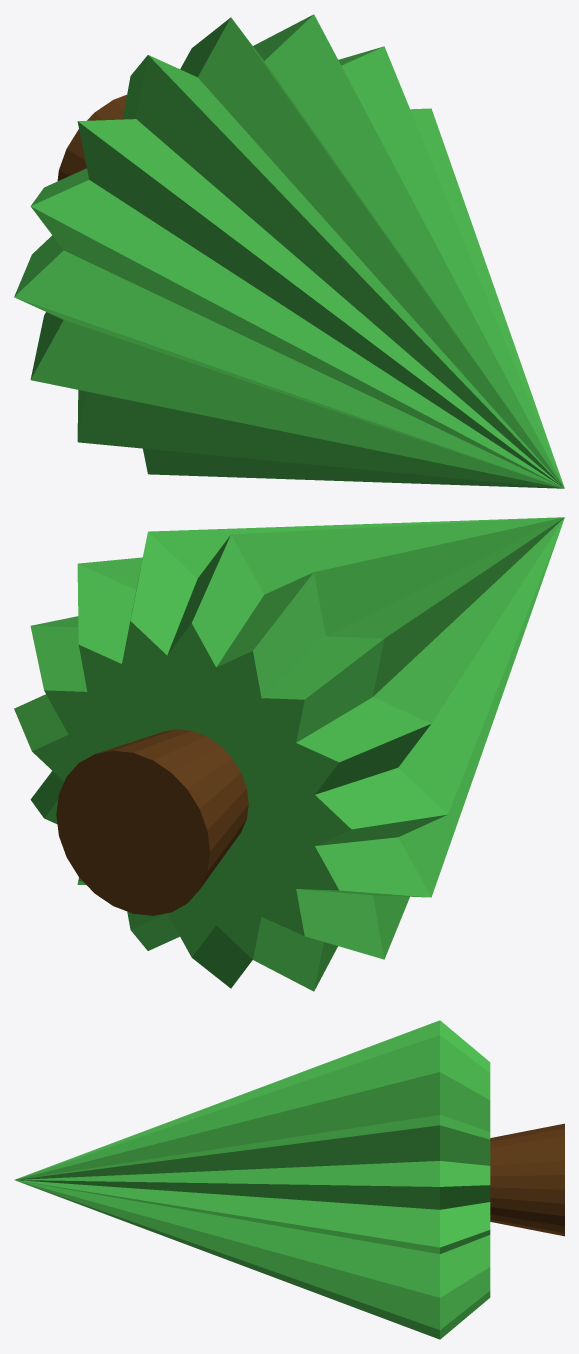
The model's file is tinker.obj.
3 renders of one model, top to bottom at view 1: azimuth 30°, elevation 25°; view 2: azimuth 150°, elevation 25°; view 3: azimuth 270°, elevation 25°, orthographic. The views are drawn at different scales.
Parts seen in each view (by area): view 1: group_0_4634441, group_0_6306067; view 2: group_0_4634441, group_0_6306067; view 3: group_0_4634441, group_0_6306067.
Part boxes in pixels (x1,y1,x2,y2): group_0_4634441: (14, 14, 564, 488); group_0_6306067: (57, 94, 126, 180); group_0_4634441: (14, 517, 564, 991); group_0_6306067: (56, 729, 248, 915); group_0_4634441: (14, 1020, 490, 1339); group_0_6306067: (490, 1123, 564, 1236).
Size of the model in its own units: 34.24 by 34.24 by 59.
